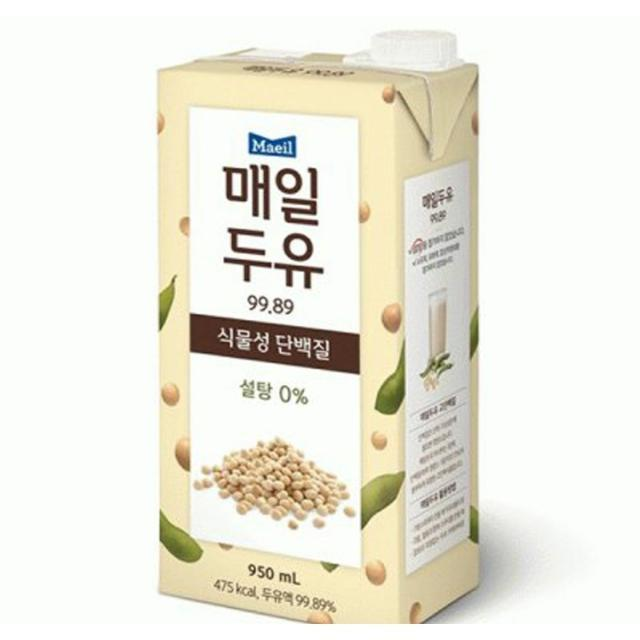Tetra: (154, 34, 497, 640)
